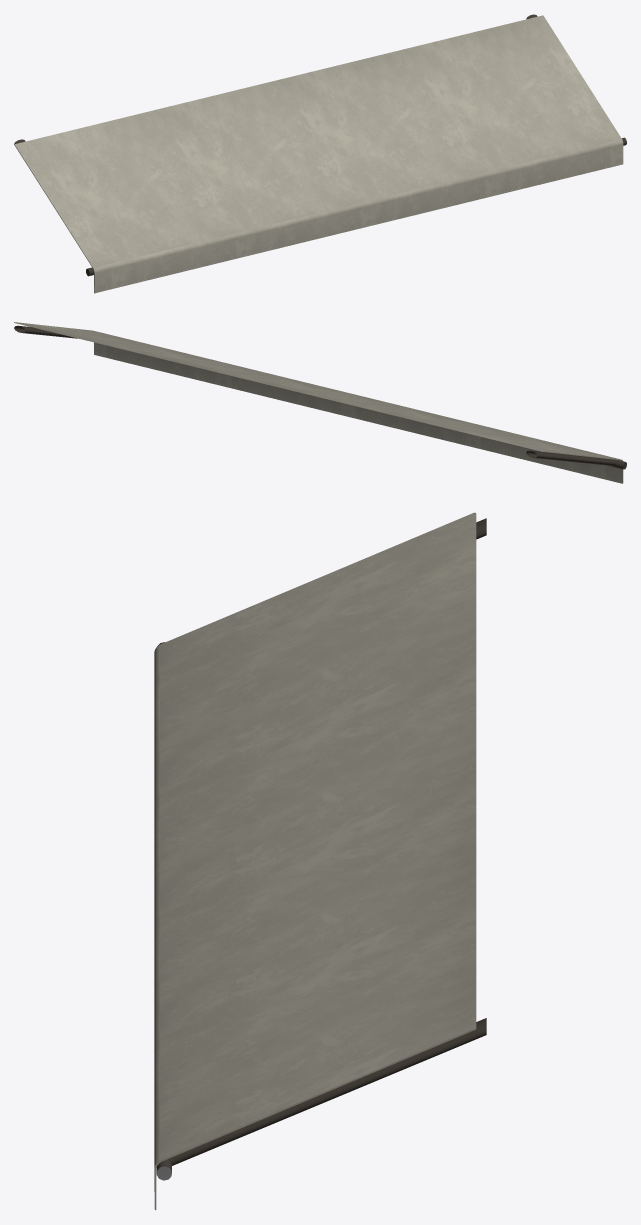
The model's file is Prop_Awning_Long.gltf.
The picture shows the model from 3 angles, top to bottom: view 1: azimuth 30°, elevation 25°; view 2: azimuth 150°, elevation 25°; view 3: azimuth 270°, elevation 25°; orthographic projection. The views are drawn at different scales.
Visible parts, largest first — view 1: Prop_Awning_Long; view 2: Prop_Awning_Long; view 3: Prop_Awning_Long.
Part boxes in pixels (x1,y1,x2,y2): Prop_Awning_Long: (14,14,626,293); Prop_Awning_Long: (14,322,626,483); Prop_Awning_Long: (154,512,486,1209).
Size of the model in its own units: 5.7 by 0.9245 by 1.53.
Materials: 2 (2 with a texture image).
